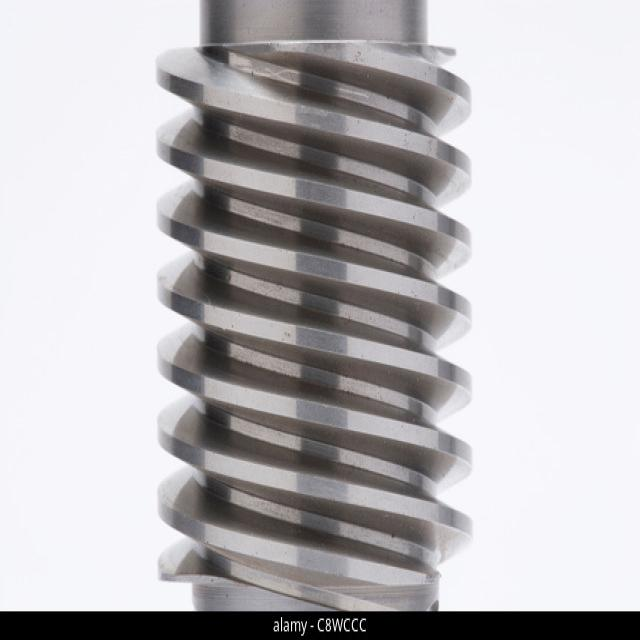Gear: (149, 0, 475, 612)
